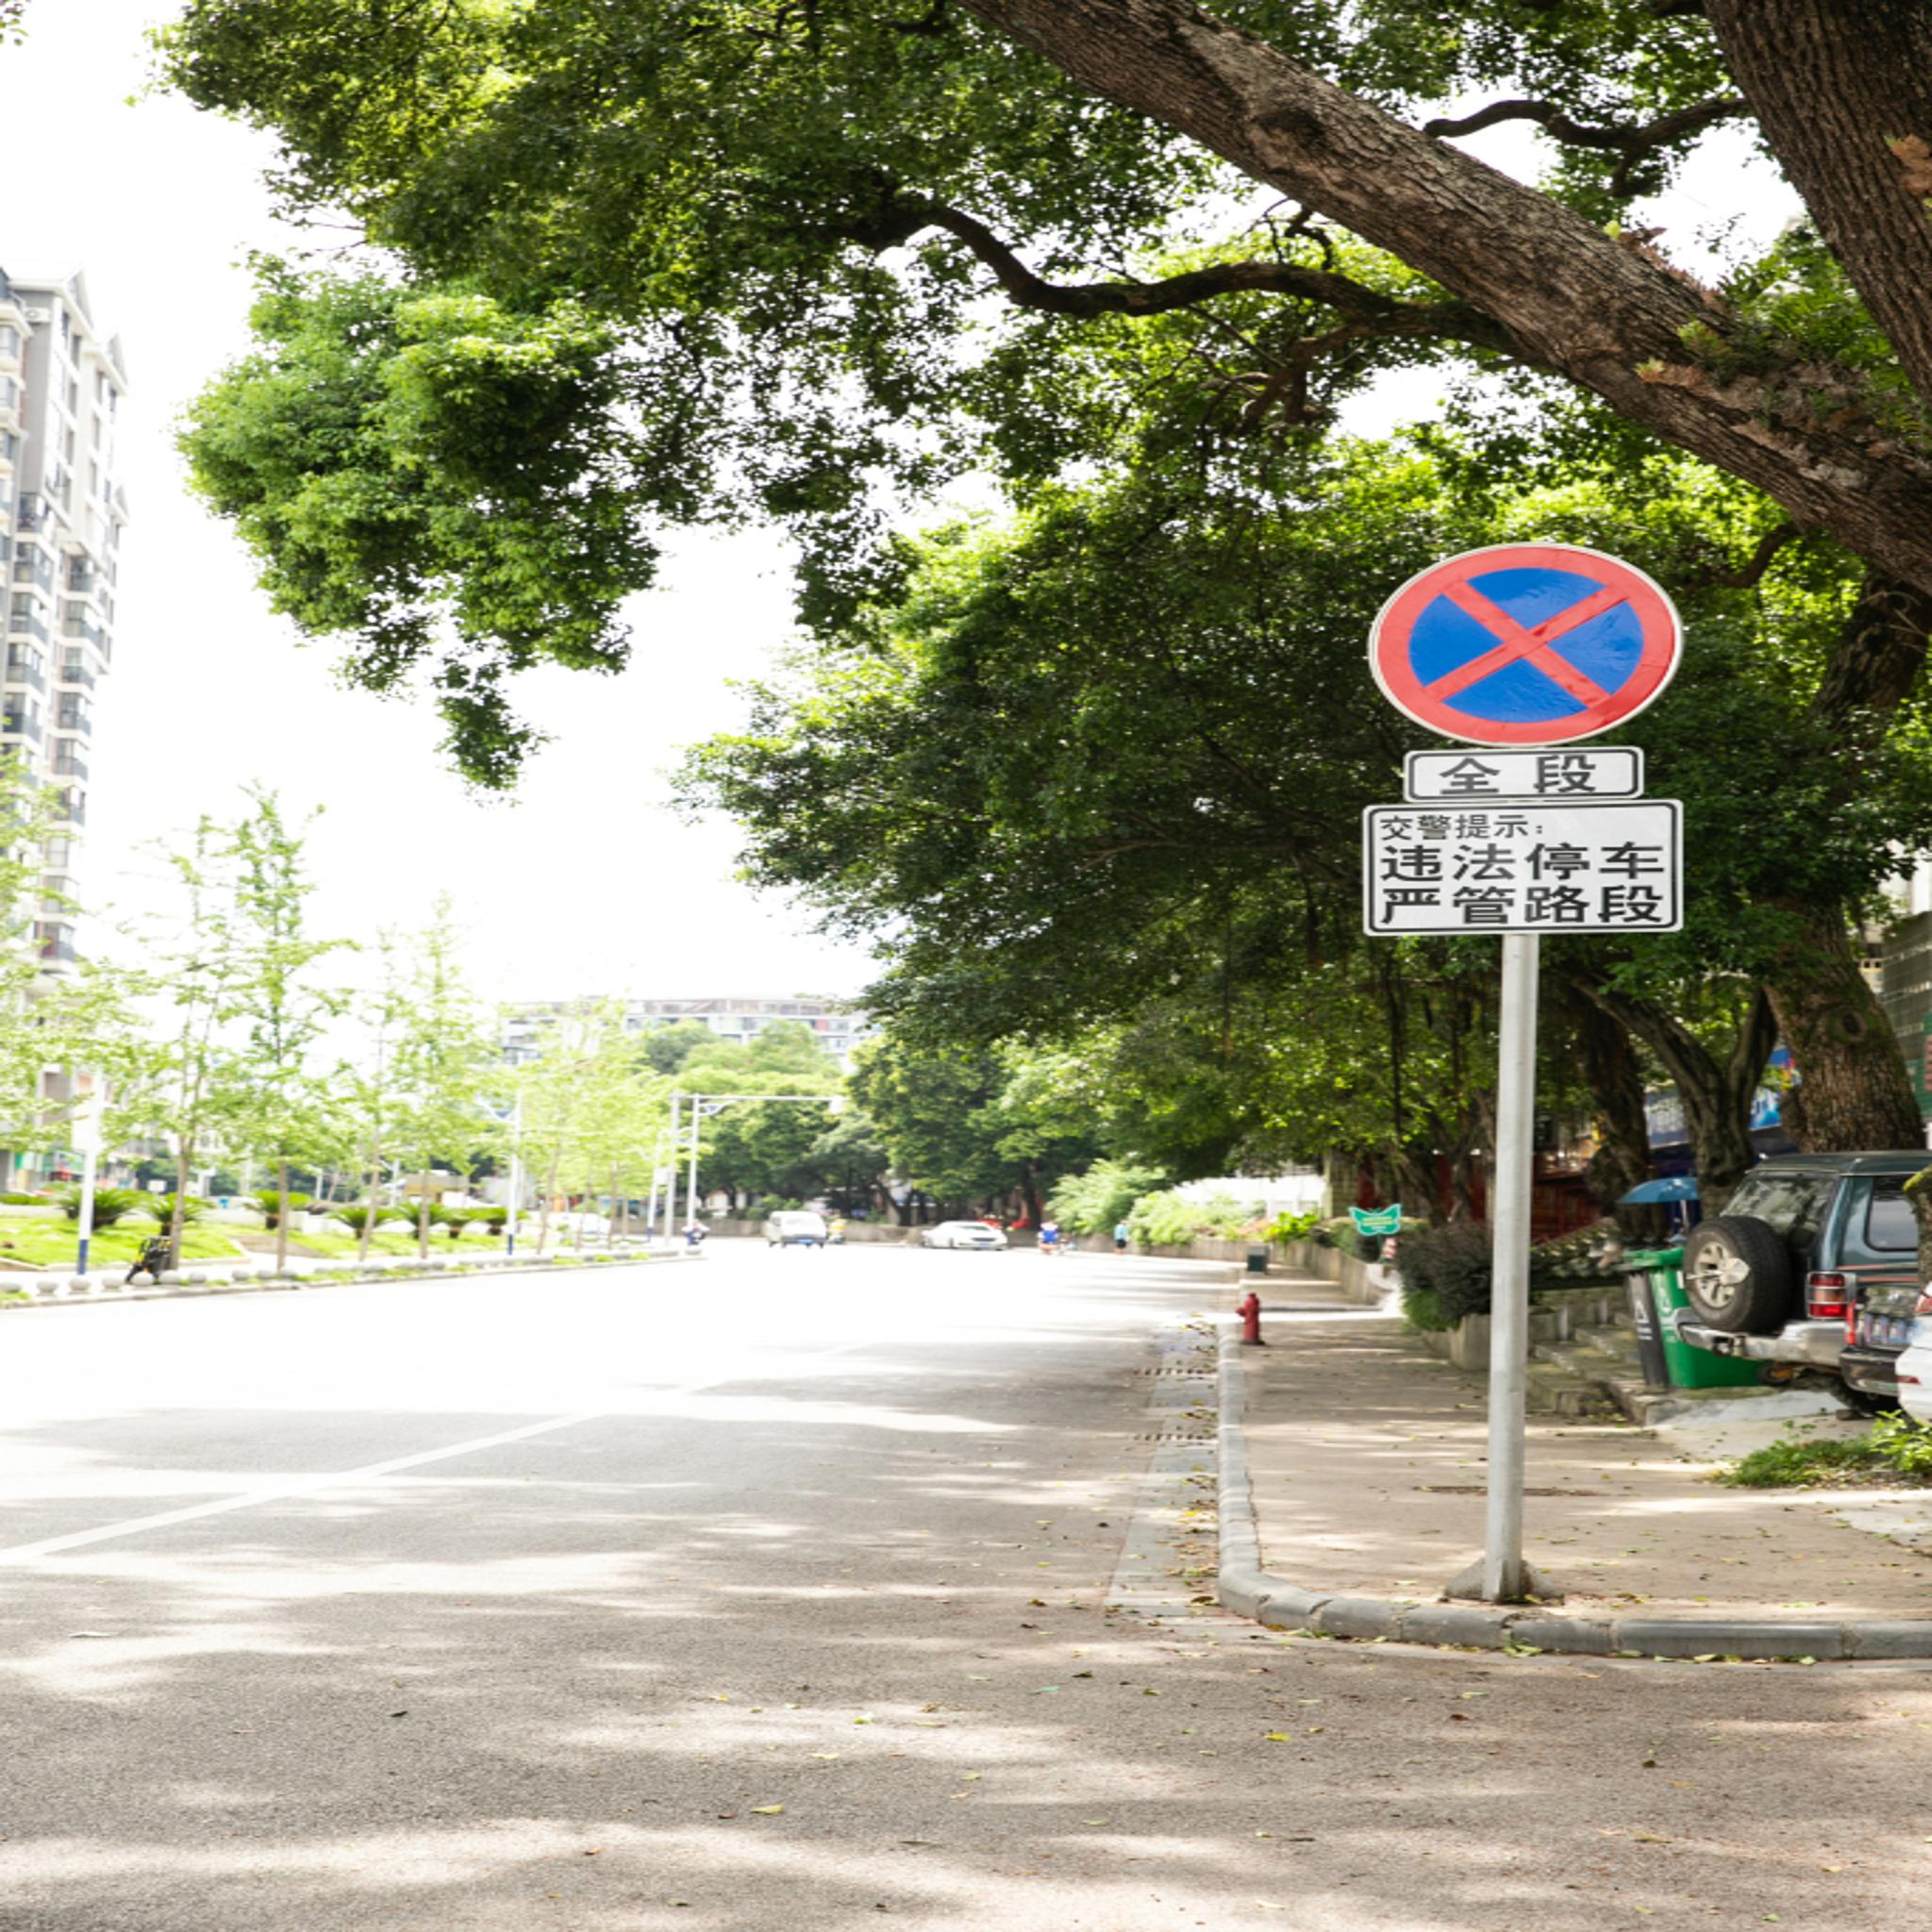pn: (1371, 545, 1683, 743)
